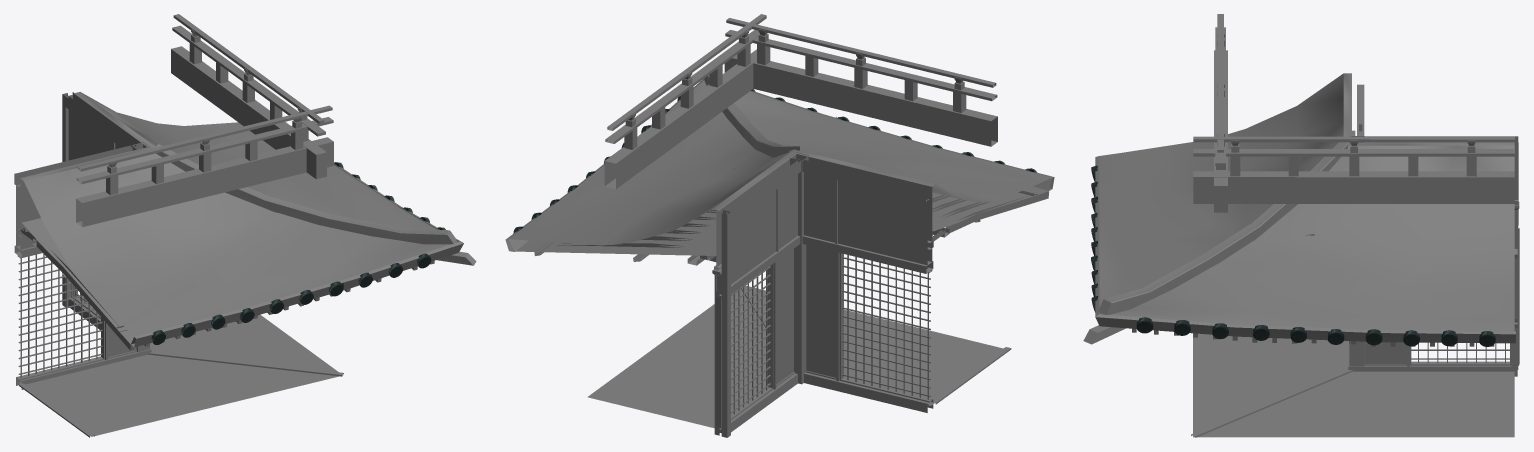
Rendered from FL2_Exterior_Corners.fbx.
The picture shows the model from 3 angles, left to right: view 1: azimuth 30°, elevation 25°; view 2: azimuth 150°, elevation 25°; view 3: azimuth 270°, elevation 25°; orthographic projection. The views are drawn at different scales.
Parts seen in each view (by area): view 1: FL2_Exterior_Corners; view 2: FL2_Exterior_Corners; view 3: FL2_Exterior_Corners.
Part boxes in pixels (x1=…): FL2_Exterior_Corners: x1=14, y1=14, x2=476, y2=437; FL2_Exterior_Corners: x1=505, y1=14, x2=1054, y2=437; FL2_Exterior_Corners: x1=1083, y1=14, x2=1519, y2=437.
Size of the model in its own units: 678 by 502 by 679.
